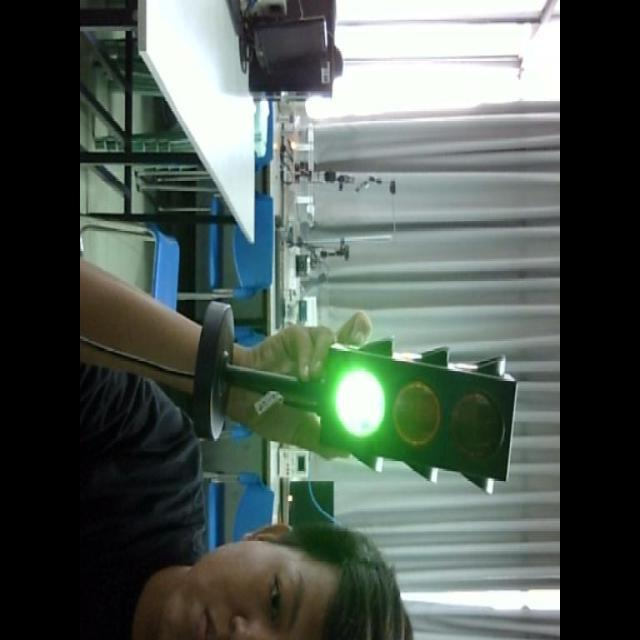green_light: (225, 338, 514, 478)
